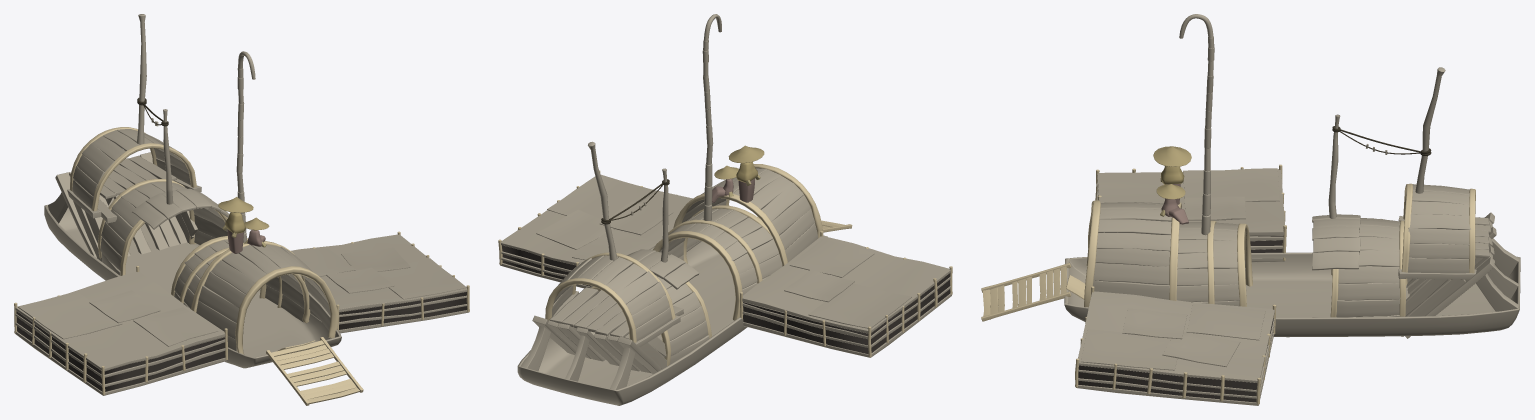
The model's file is boat_scene_noAnim.fbx.
The picture shows the model from 3 angles, left to right: view 1: azimuth 30°, elevation 25°; view 2: azimuth 150°, elevation 25°; view 3: azimuth 270°, elevation 25°; orthographic projection. The views are drawn at different scales.
Parts seen in each view (by area): view 1: polySurface595; view 2: polySurface595; view 3: polySurface595.
Part boxes in pixels (x1,y1,x2,y2): polySurface595: (14,14,469,405); polySurface595: (498,14,952,405); polySurface595: (981,14,1520,405).
Bounding box in the file's own units: 869 × 610 × 988.
